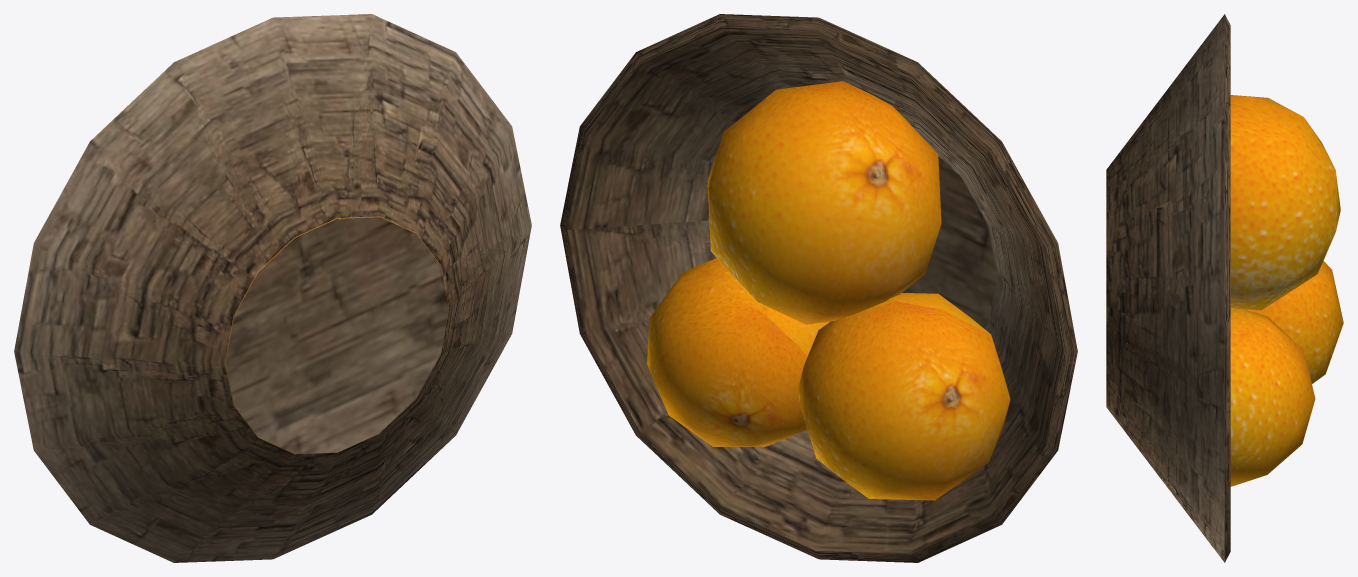
File: fruitbowl001.FBX
The picture shows the model from 3 angles, left to right: view 1: azimuth 30°, elevation 25°; view 2: azimuth 150°, elevation 25°; view 3: azimuth 270°, elevation 25°; orthographic projection. The views are drawn at different scales.
Visible parts, largest first — view 1: fruitbowl001; view 2: fruitbowl001; view 3: fruitbowl001.
Part boxes in pixels (x1,y1,x2,y2): fruitbowl001: [14, 14, 531, 562]; fruitbowl001: [560, 14, 1077, 562]; fruitbowl001: [1106, 14, 1343, 562].
Bounding box in the file's own units: 55.98 × 55.98 × 24.21.
